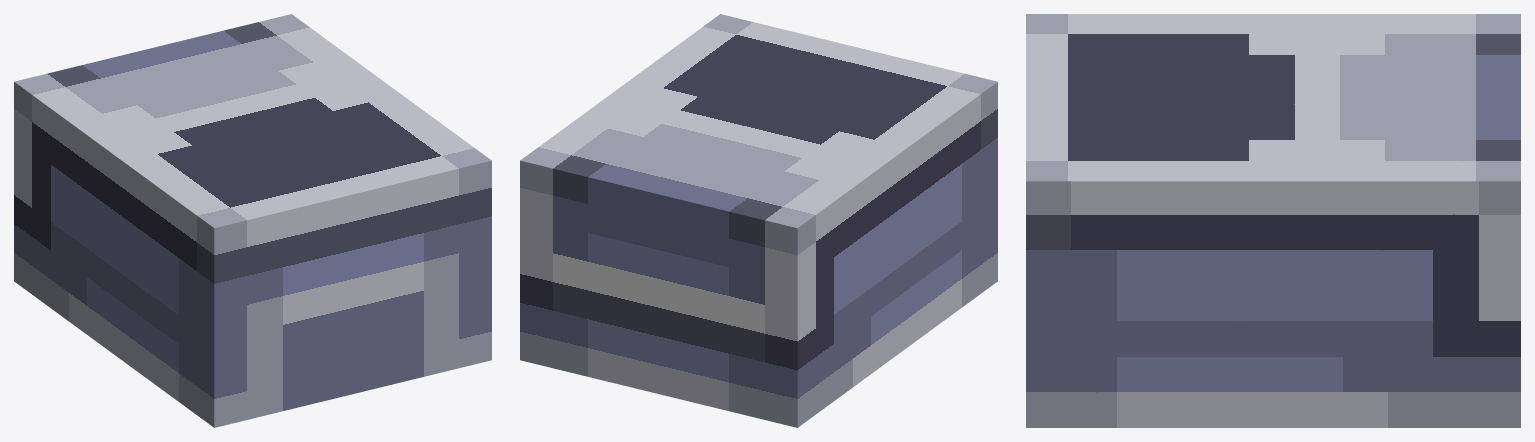
The model's file is shinyarmor-foot-left.gltf.
3 views of the same model, side by side, from view 1: azimuth 30°, elevation 25°; view 2: azimuth 150°, elevation 25°; view 3: azimuth 270°, elevation 25° (orthographic). The views are drawn at different scales.
Visible parts, largest first — view 1: shinyarmor; view 2: shinyarmor; view 3: shinyarmor.
Boxes of the visible parts, x1,y1,x2,y2 form: shinyarmor: (14, 14, 491, 427); shinyarmor: (520, 14, 997, 427); shinyarmor: (1026, 14, 1520, 427).
Bounding box in the file's own units: 0.25 × 0.1875 × 0.3125.
Materials: 2 (2 with a texture image).
